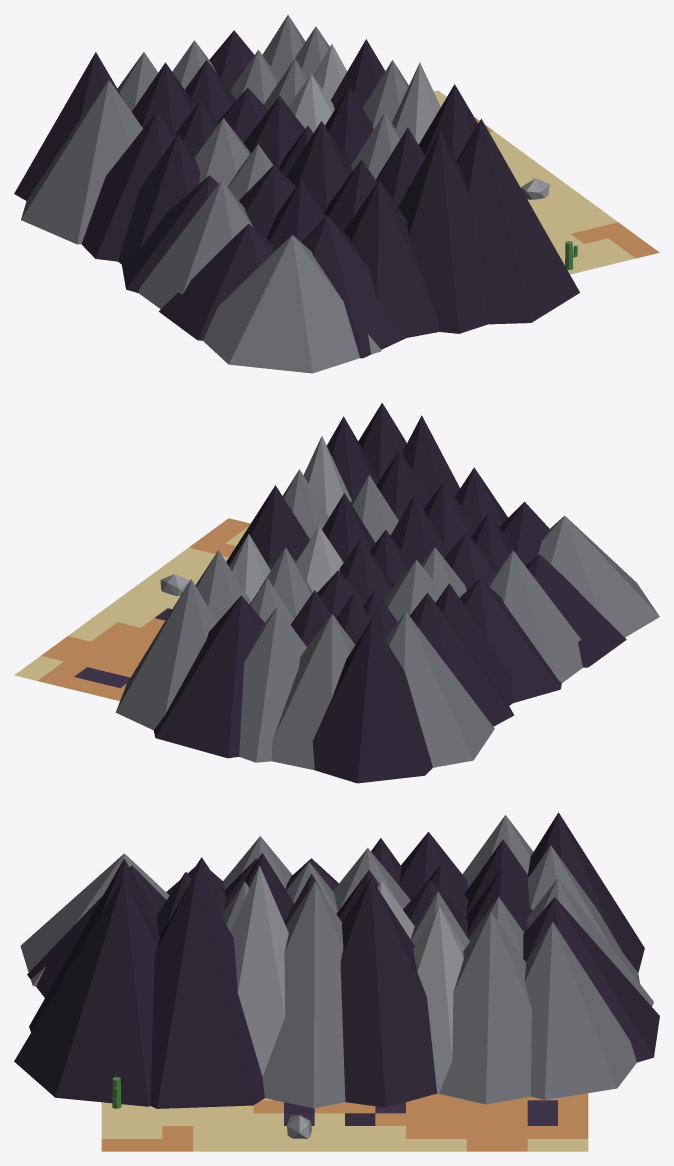
Rendered from chunk_8_22.glb.
3 renders of one model, top to bottom at view 1: azimuth 30°, elevation 25°; view 2: azimuth 150°, elevation 25°; view 3: azimuth 270°, elevation 25°, orthographic. The views are drawn at different scales.
Visible parts, largest first — view 1: chunk_8_22; view 2: chunk_8_22; view 3: chunk_8_22.
Part boxes in pixels (box(x1,y1,x2,y2)): chunk_8_22: box(14, 15, 659, 373); chunk_8_22: box(14, 403, 659, 783); chunk_8_22: box(14, 812, 659, 1151).
Size of the model in its own units: 18.58 by 7.5 by 21.23.
